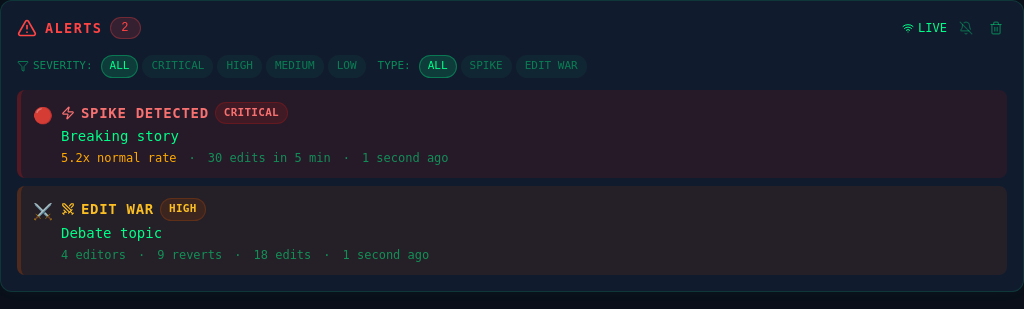
Test case: AlertsPanel › shows empty filter message when filters exclude all
Expected: the link "Breaking story" is shown, left=61, top=128, right=179, bottom=144
Note: Filter to low severity — neither alert matches
Click the button "LOW". click: (347, 66)
box: left=328, top=55, right=366, bottom=78
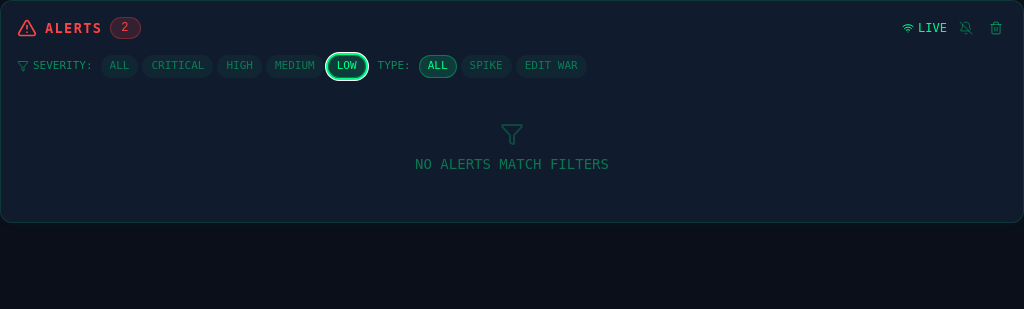
Now the text "NO ALERTS MATCH FILTERS" is shown, box left=415, top=122, right=609, bottom=172
